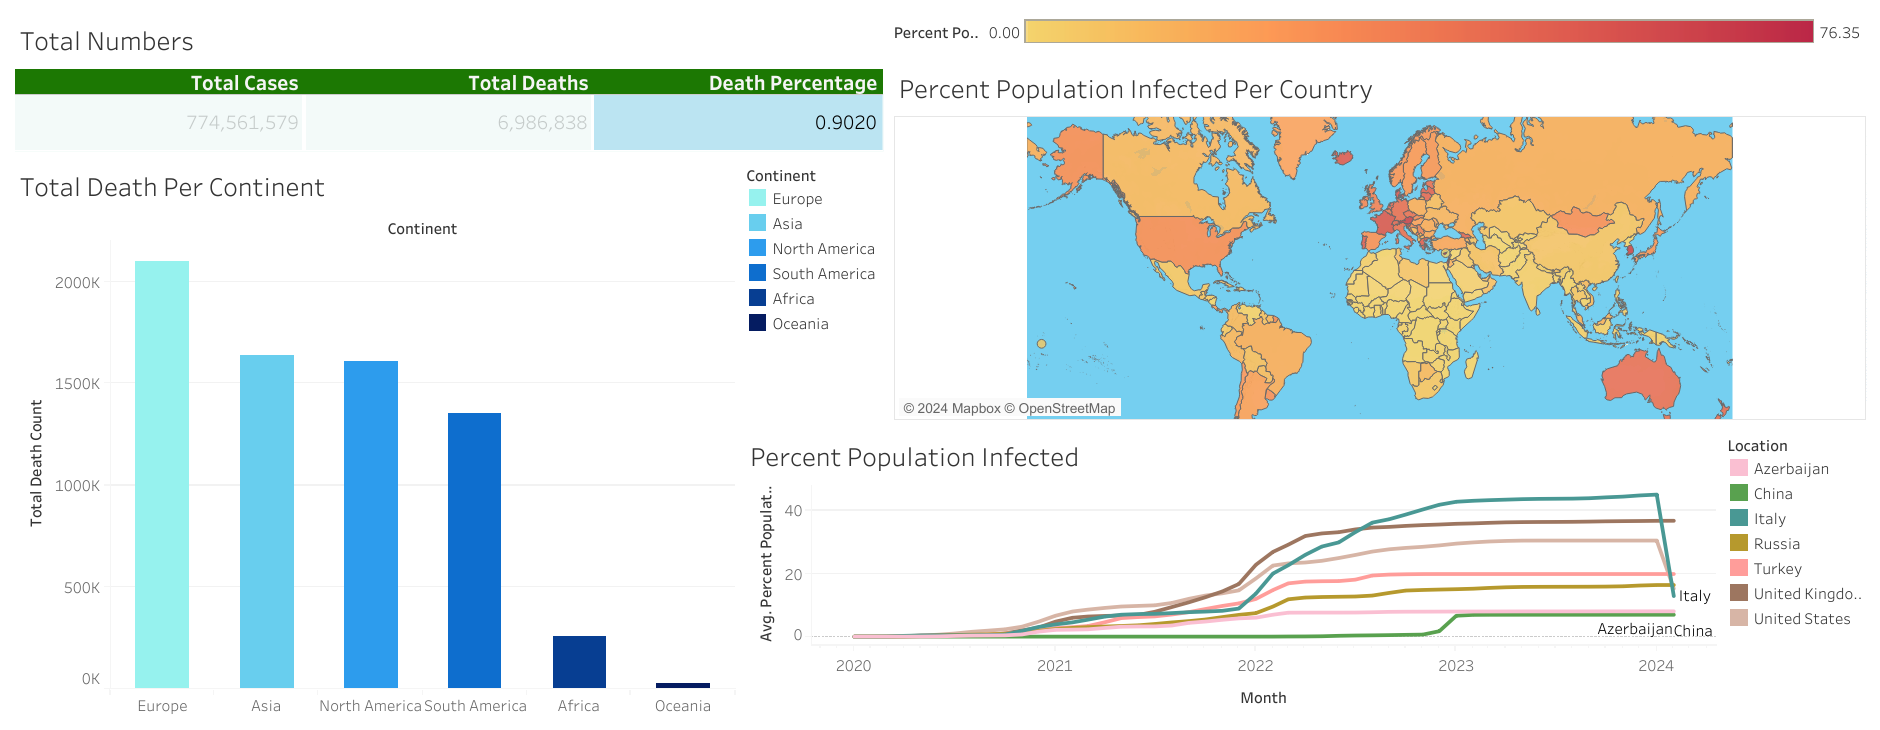

The dashboard page shown, as its layout file describes it:
{"tool":"tableau","page":{"name":"Dashboard 1","canvas":[1000,1000],"units":"permille","ordinal":0},"visuals":[{"type":"worksheet","title":"Sheet 1","mark":"Automatic","box":[4.8,9.4,467.7,200.9]},{"type":"legend","title":"Sheet 3","param":"[federated.024ikz81n0hifn19koozo08fmyvl].[sum:PercentPopulationInfected:qk]","box":[472.5,9.4,522.6,65.8]},{"type":"worksheet","title":"Sheet 3","mark":"Automatic","box":[472.5,75.2,522.6,507.6]},{"type":"worksheet","title":"Sheet 2","mark":"Automatic","rows":["TotalDeathCount"],"cols":["location"],"box":[4.8,210.3,388.2,780.3]},{"type":"legend","title":"Sheet 2","param":"[federated.0u6wel50el77ed13uz9jt0dgqqts].[none:location:nk]","box":[393,210.3,79.5,372.5]},{"type":"worksheet","title":"Sheet 4","mark":"Automatic","rows":["PercentPopulationInfected"],"cols":["date"],"box":[393,582.8,522.6,407.8]},{"type":"legend","title":"Sheet 4","param":"[federated.060p48514oyic5133q99p1us1bst].[none:Location:nk]","box":[915.6,582.8,79.5,407.8]}]}

Visuals, with their boxes on the dashboard's canvas, which has no fixed pixel size, in thousandths of its width and height (x1, y1, x2, y2). These are canvas units, not pixel positions in the 1880x730 screenshot, which may show the page scaled, cropped or inside an application window:
"Sheet 1" worksheet: 5,9,472,210
"Sheet 3" legend: 472,9,995,75
"Sheet 3" worksheet: 472,75,995,583
"Sheet 2" worksheet: 5,210,393,991
"Sheet 2" legend: 393,210,472,583
"Sheet 4" worksheet: 393,583,916,991
"Sheet 4" legend: 916,583,995,991
